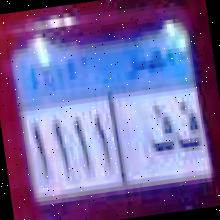1: (26, 112, 54, 192), (90, 108, 118, 182), (69, 111, 97, 185), (49, 112, 75, 186)
faa: (142, 95, 178, 165), (172, 96, 206, 162)
